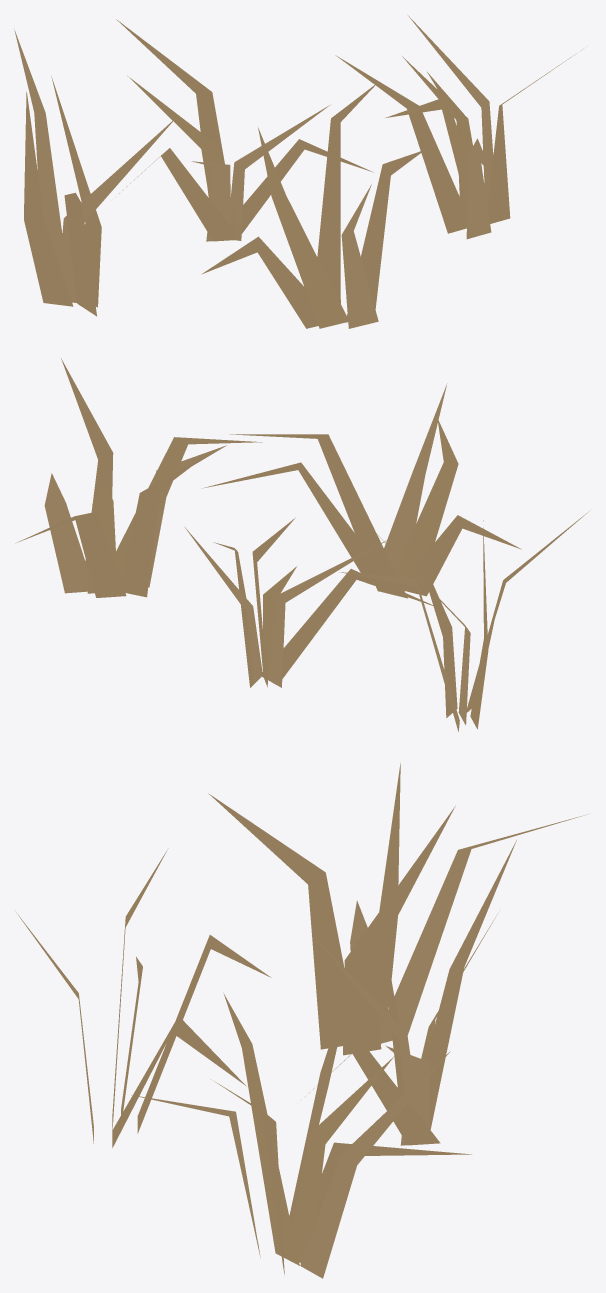
File: Grass_g_TwoS_06.fbx
3 renders of one model, top to bottom at view 1: azimuth 30°, elevation 25°; view 2: azimuth 150°, elevation 25°; view 3: azimuth 270°, elevation 25°, orthographic. The views are drawn at different scales.
Parts seen in each view (by area): view 1: Grass_g_TwoS_06; view 2: Grass_g_TwoS_06; view 3: Grass_g_TwoS_06.
Part boxes in pixels (x1,y1,x2,y2): Grass_g_TwoS_06: (14,15,582,328); Grass_g_TwoS_06: (15,358,587,731); Grass_g_TwoS_06: (16,763,587,1278).
Bounding box in the file's own units: 1.29 × 0.5188 × 1.01.
